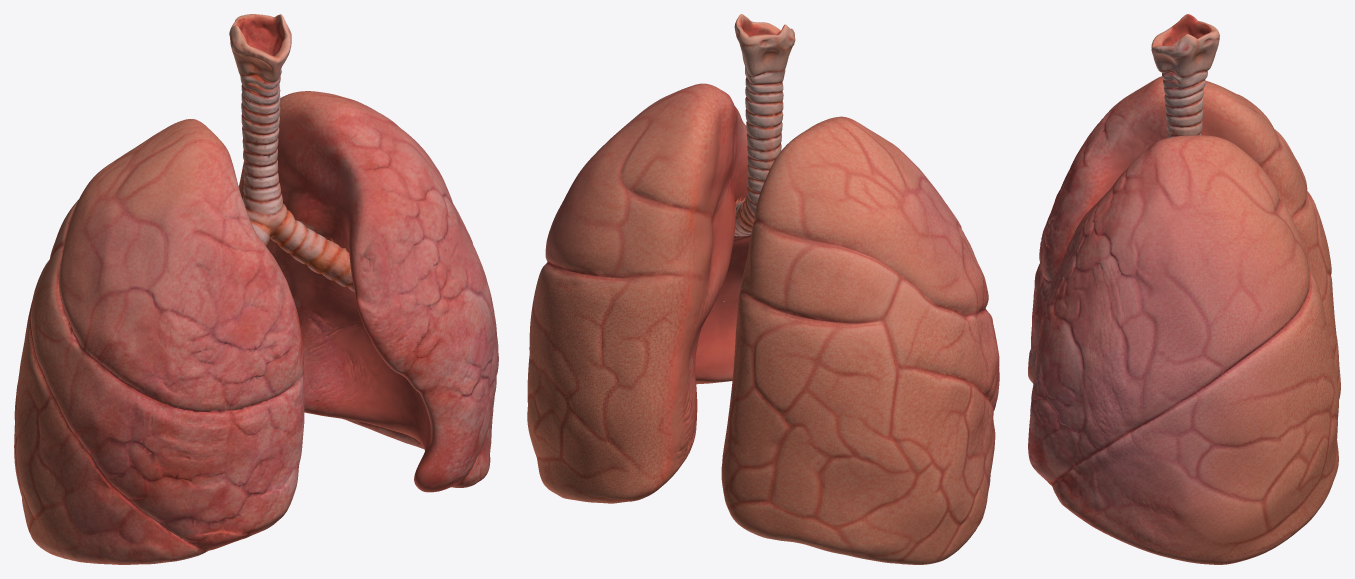
File: organ-lungs-interactive-lod.orig.glb
The picture shows the model from 3 angles, left to right: view 1: azimuth 30°, elevation 25°; view 2: azimuth 150°, elevation 25°; view 3: azimuth 270°, elevation 25°; orthographic projection. The views are drawn at different scales.
Visible parts, largest first — view 1: tripo_node_a2c7b654-b225-4f4d-9d04-c8d7d752252c; view 2: tripo_node_a2c7b654-b225-4f4d-9d04-c8d7d752252c; view 3: tripo_node_a2c7b654-b225-4f4d-9d04-c8d7d752252c.
Boxes of the visible parts, bbox=[...] form: tripo_node_a2c7b654-b225-4f4d-9d04-c8d7d752252c: bbox=[14, 14, 498, 564]; tripo_node_a2c7b654-b225-4f4d-9d04-c8d7d752252c: bbox=[527, 14, 999, 564]; tripo_node_a2c7b654-b225-4f4d-9d04-c8d7d752252c: bbox=[1028, 14, 1340, 564].
Size of the model in its own units: 29573 by 32088 by 20090.
Materials: 1 (1 with a texture image).
